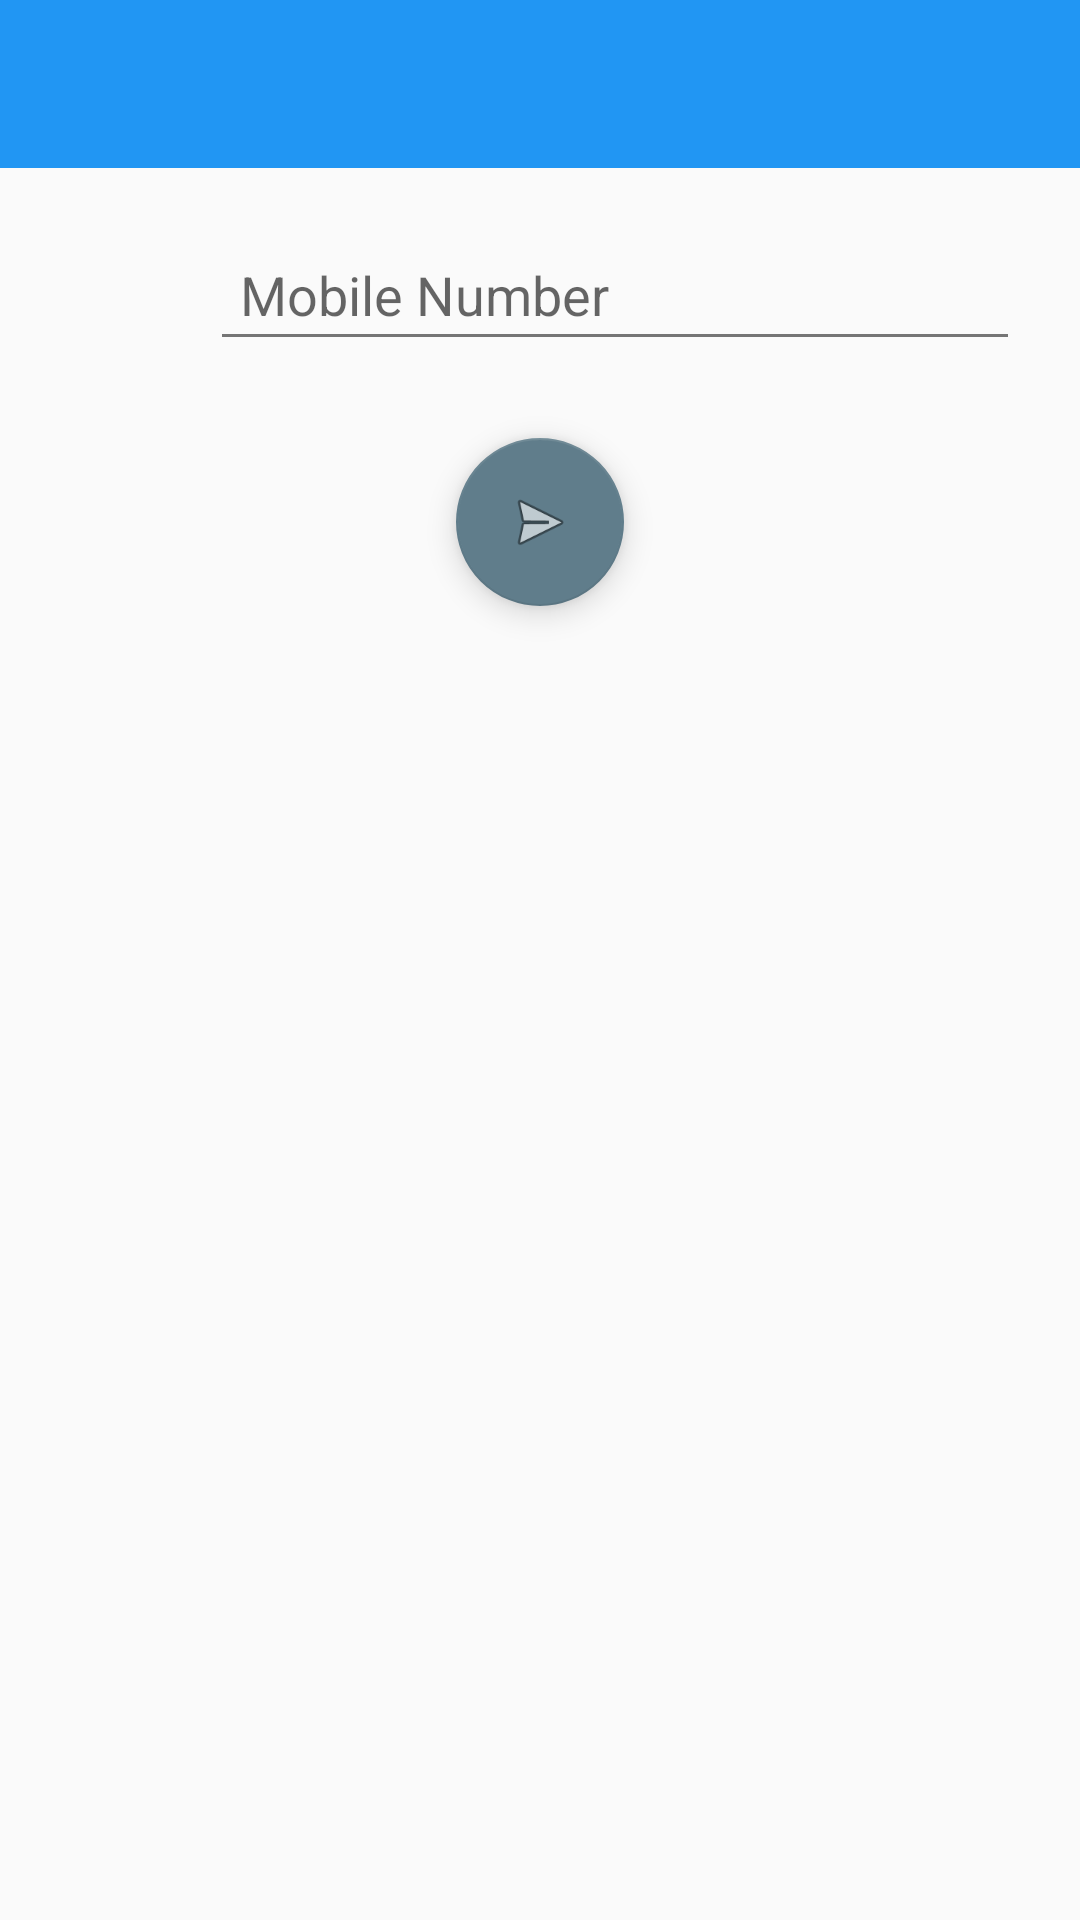

Where icons sit on this 1080 × 1920 app screen, as [left=x1, top=y1, right=x2, bottom=y2]:
send: [left=456, top=438, right=624, bottom=606]
